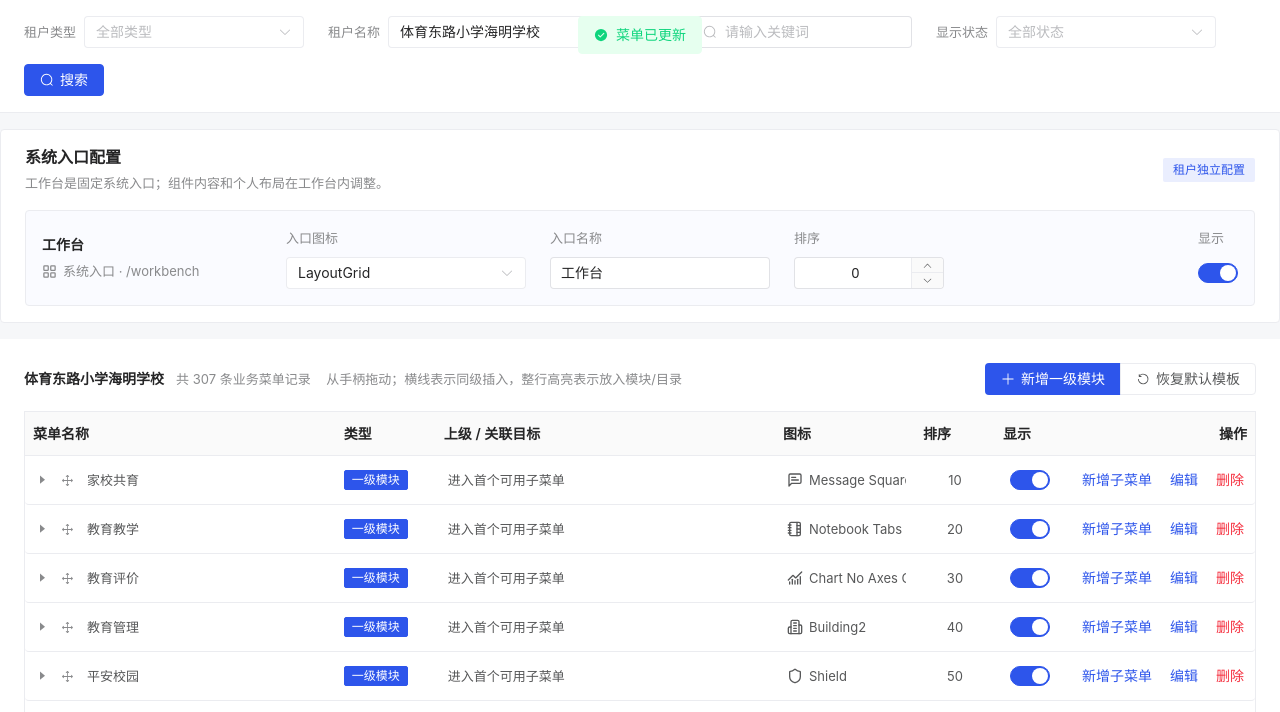
Test: MenuConfigView › opens inline editing by double-clicking a row
This screenshot has width=1280, height=712.
Double-click the element with class "menu-tree-row" that starts with "家校共育": (640, 480) [33,466,1247,494]
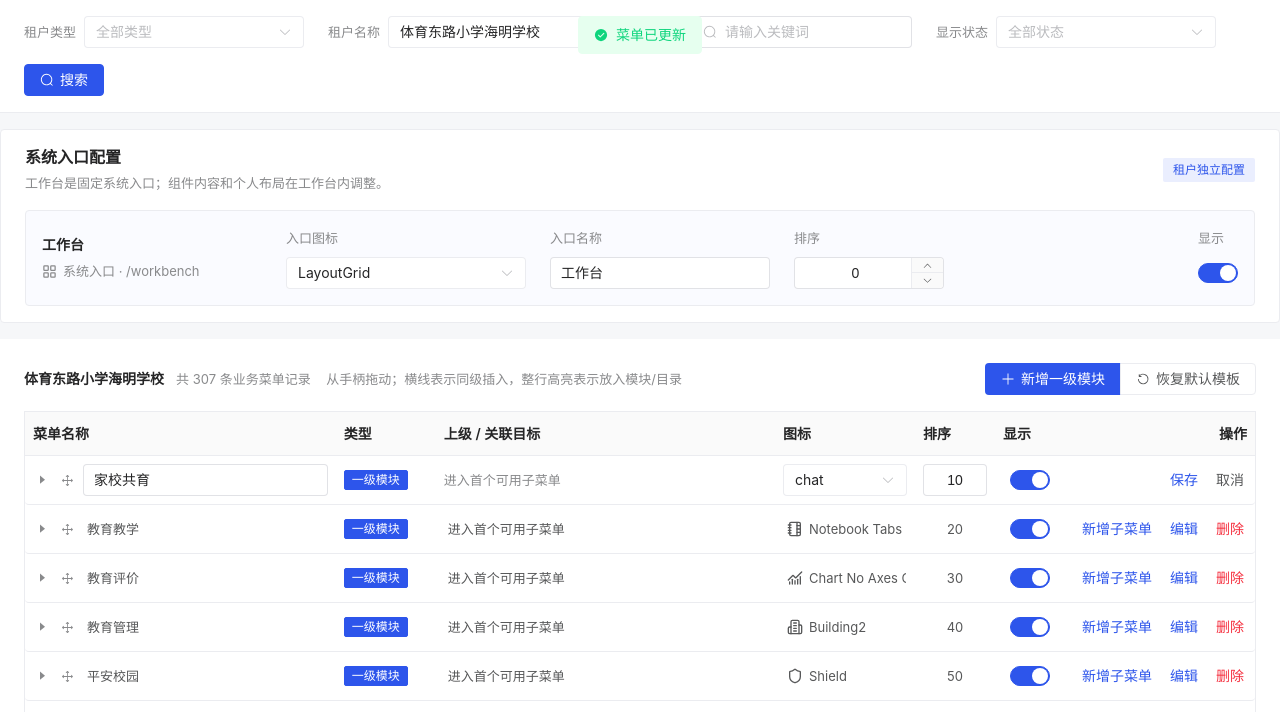
Check: the field named "菜单名称" is shown, box [94,465,317,495]
